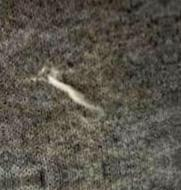snag: (39, 68, 111, 125)
